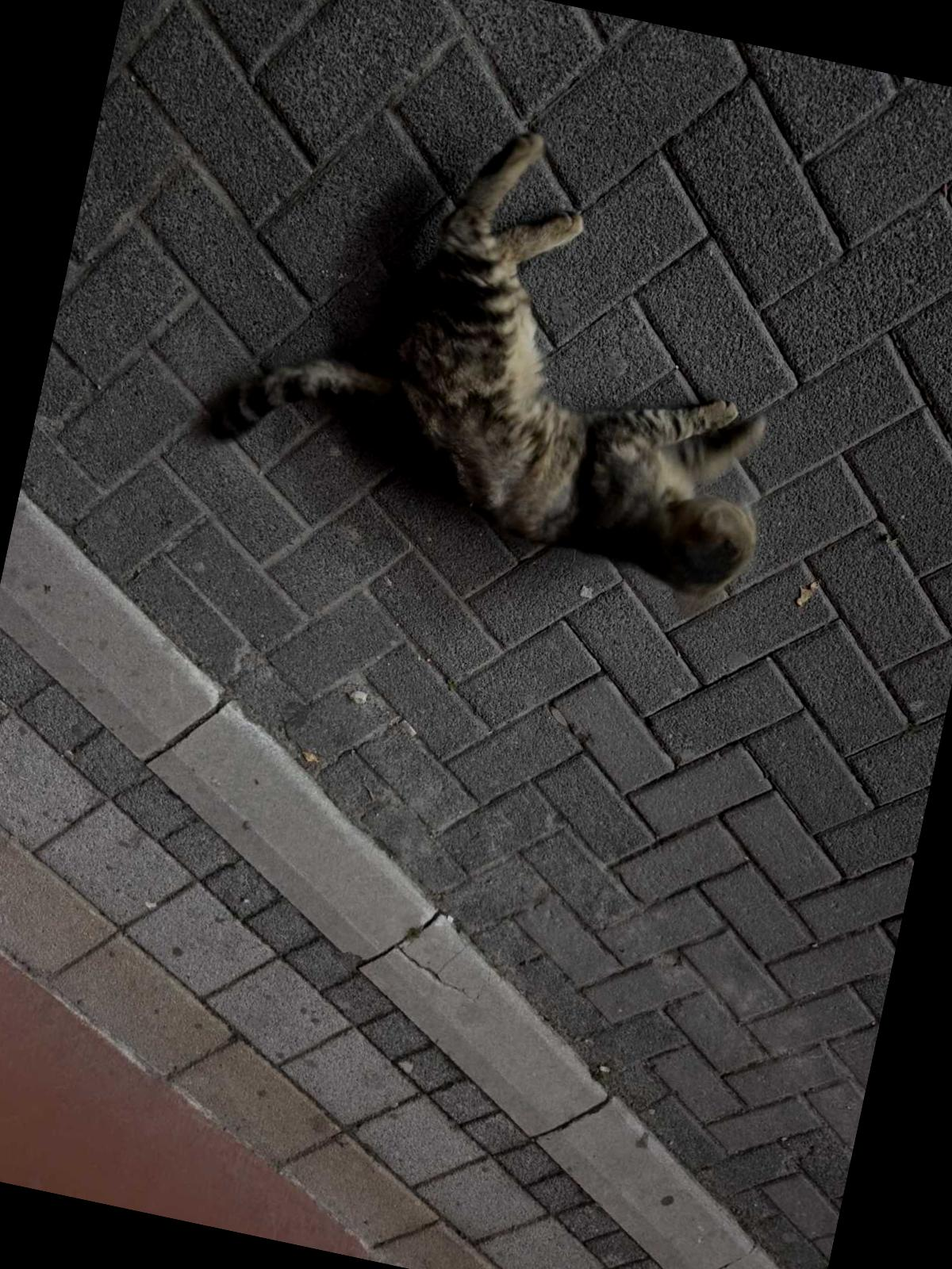macka: (171, 63, 840, 642)
